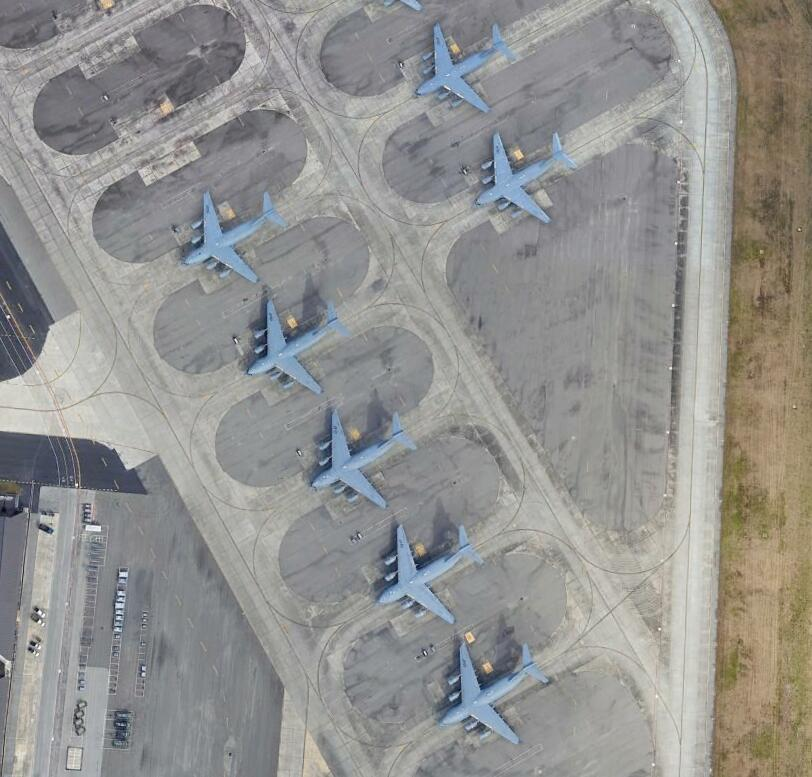A3: (440, 641, 552, 748), (311, 408, 422, 514), (376, 523, 486, 627), (182, 186, 284, 285), (246, 299, 351, 395), (475, 131, 579, 226), (415, 21, 515, 115)
